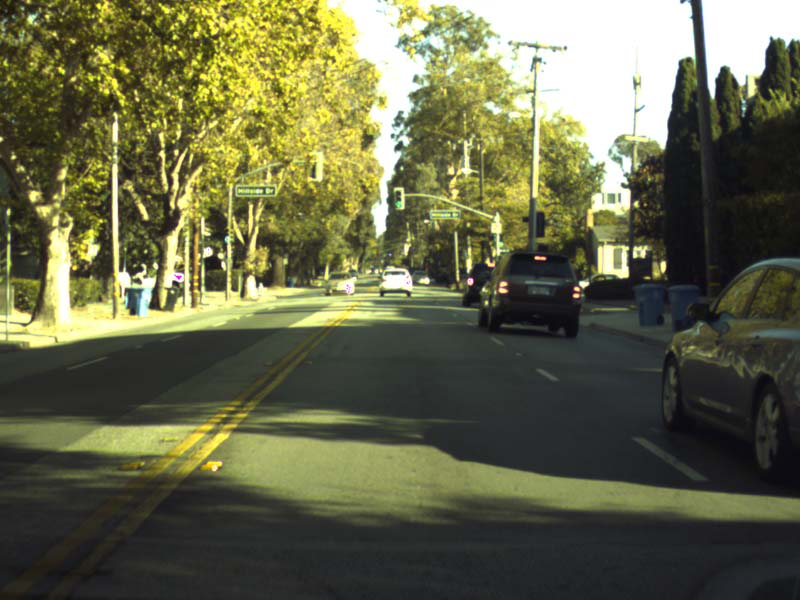Green: (393, 186, 403, 210), (223, 227, 230, 243)
